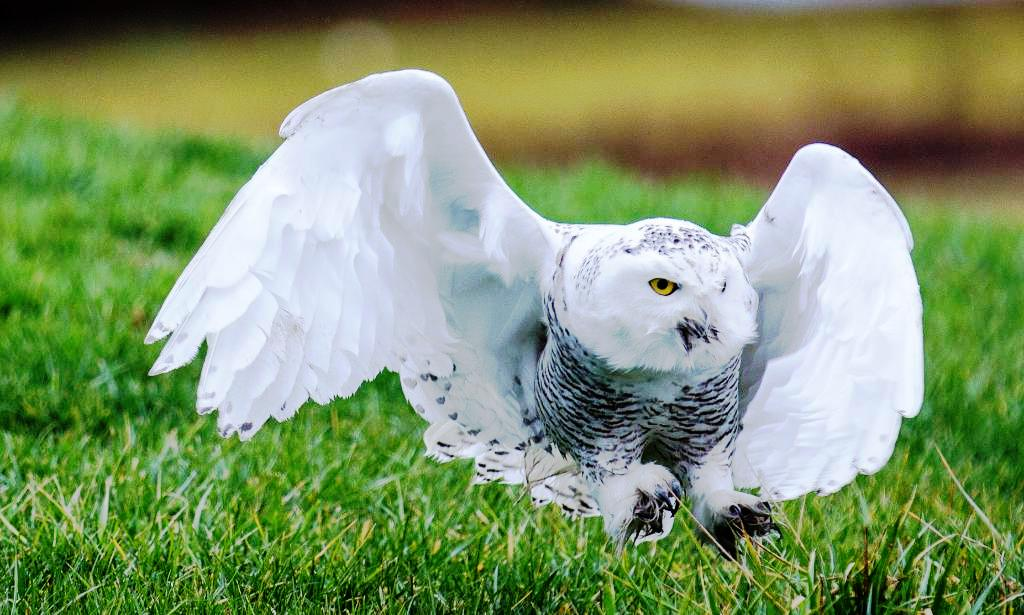Owl: (143, 67, 924, 562)
